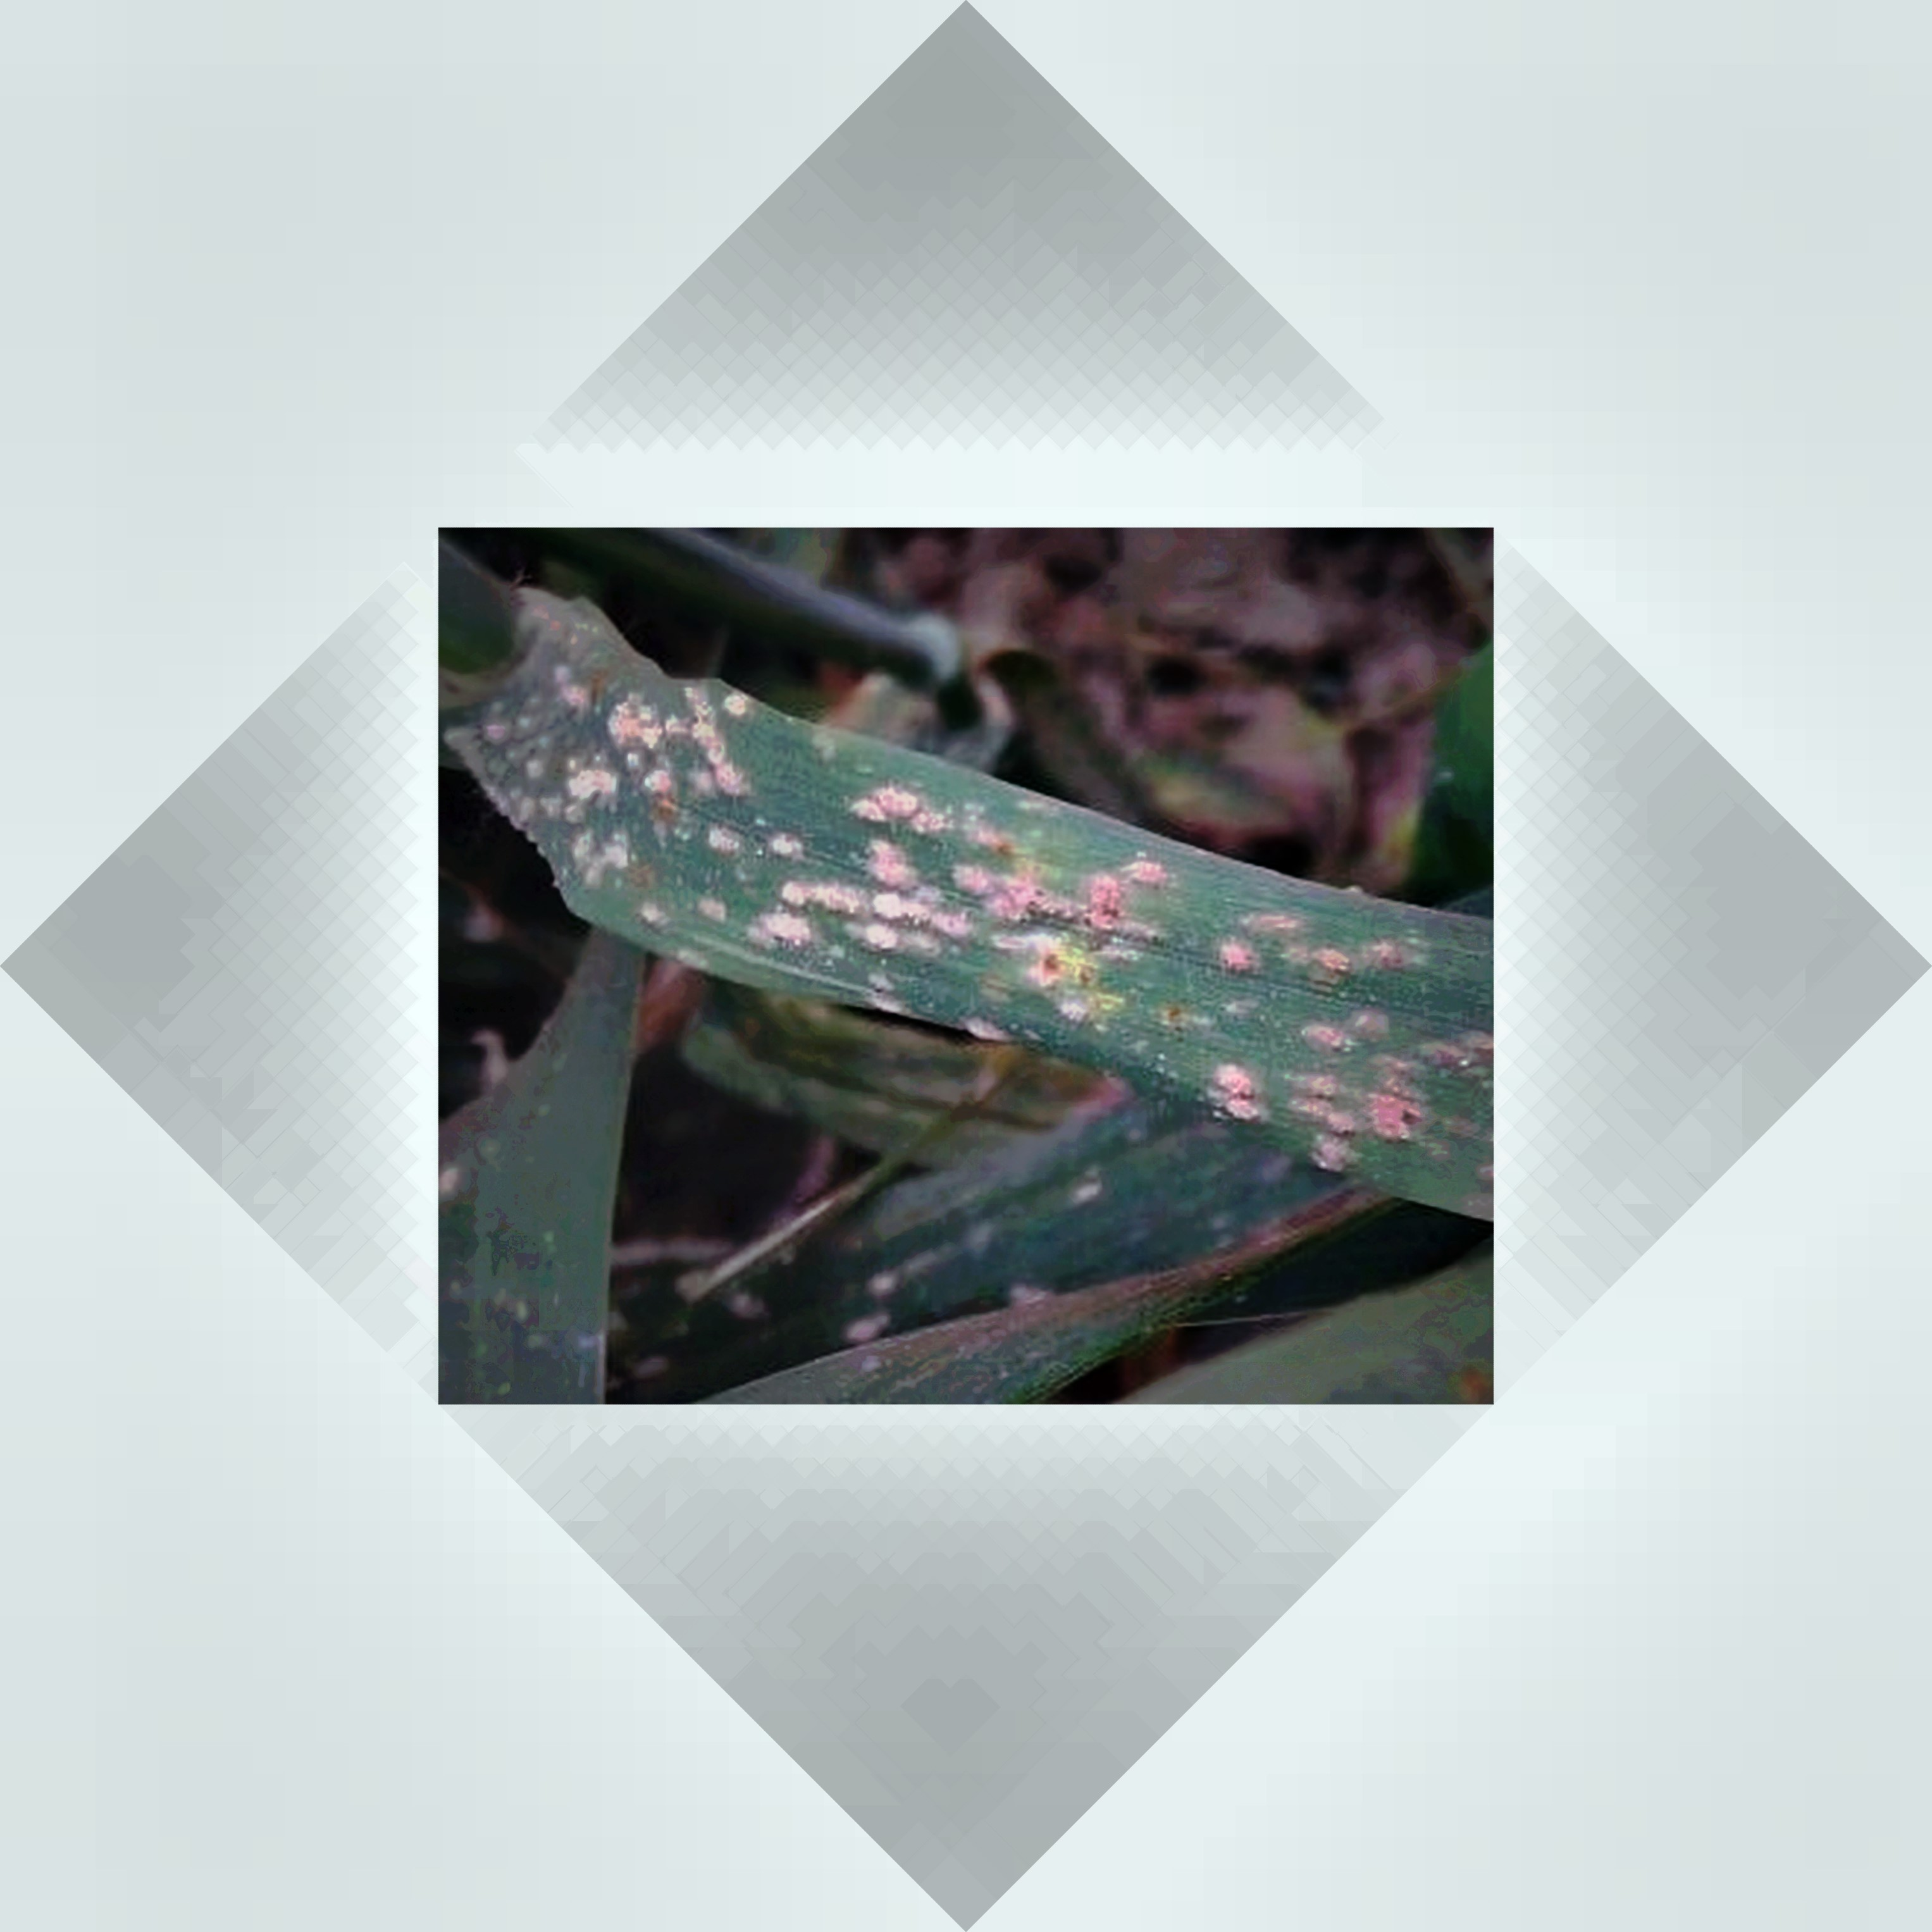Powdery Mildew: (479, 642, 1380, 1136)
